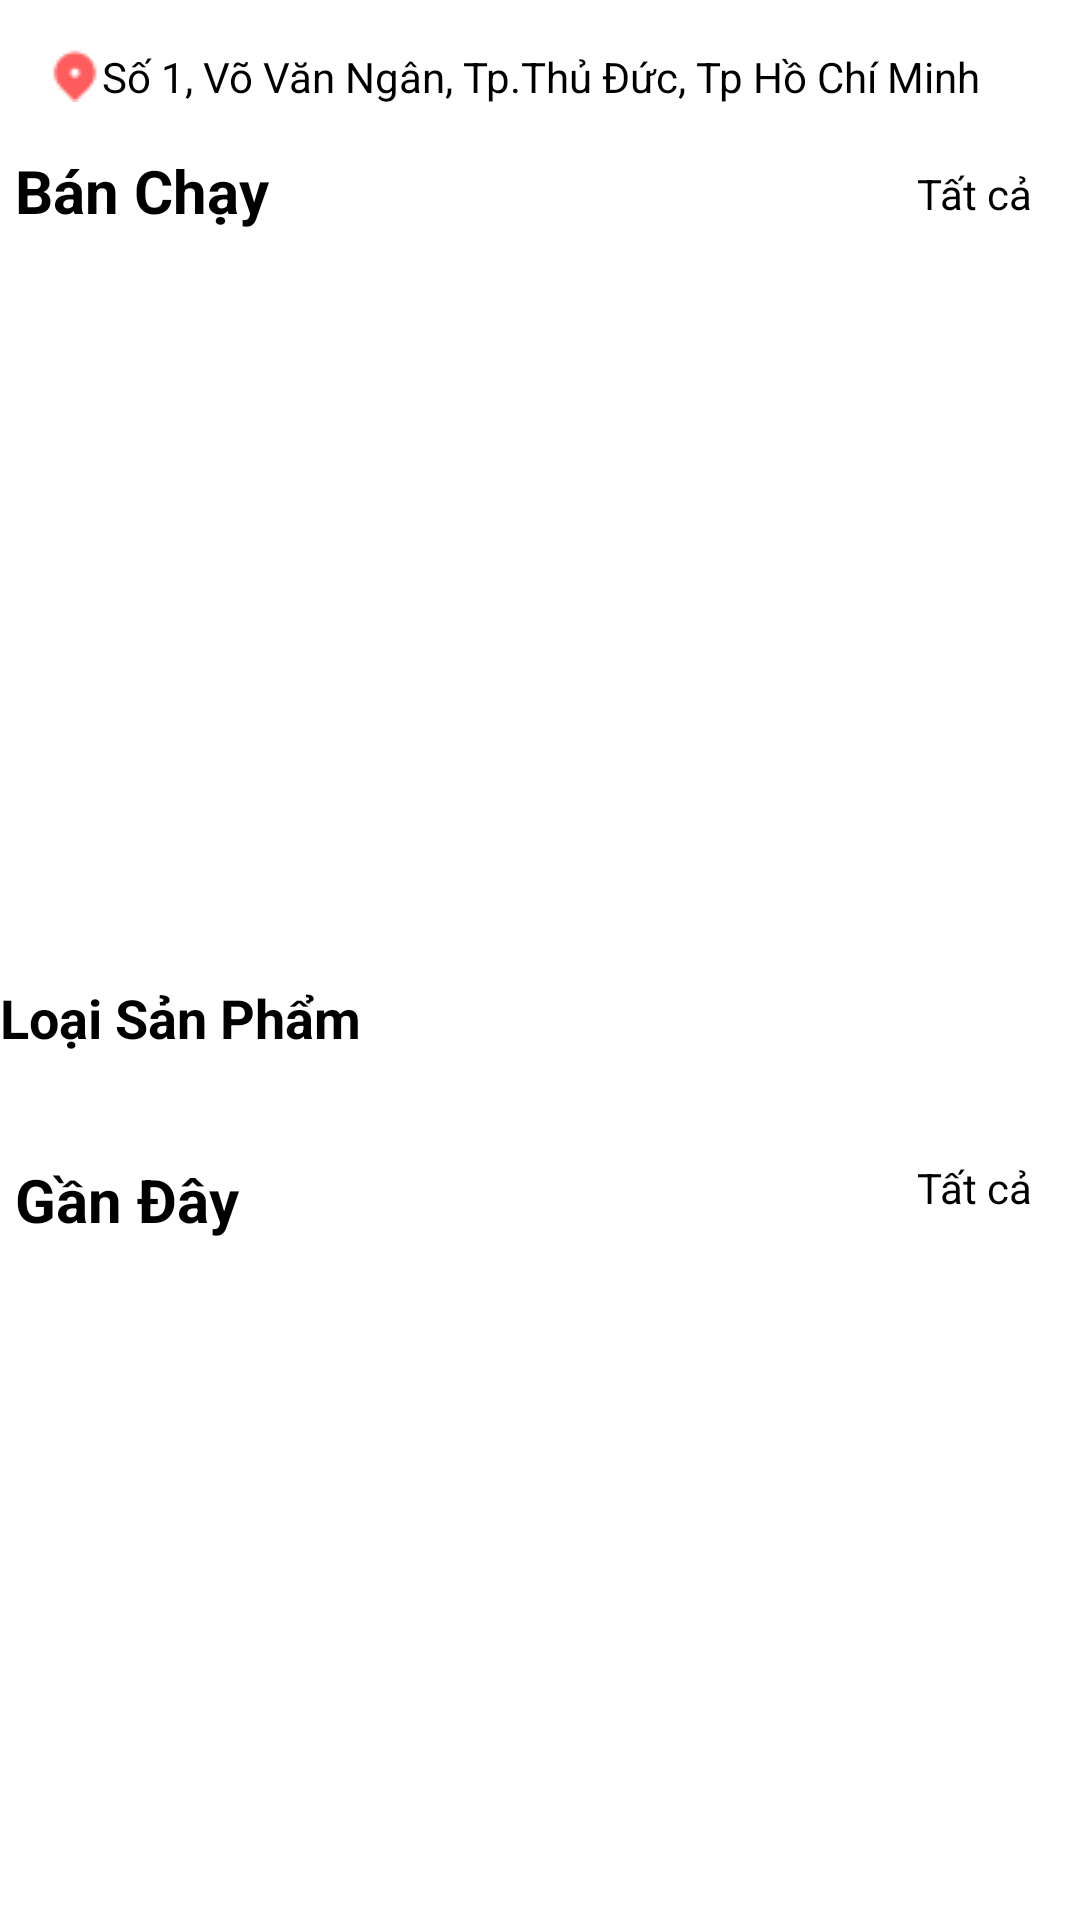

Icon click points for this 1080 x 1920 phone screenshot, format (x=x, y=y):
mappinfill: (x=75, y=76)
